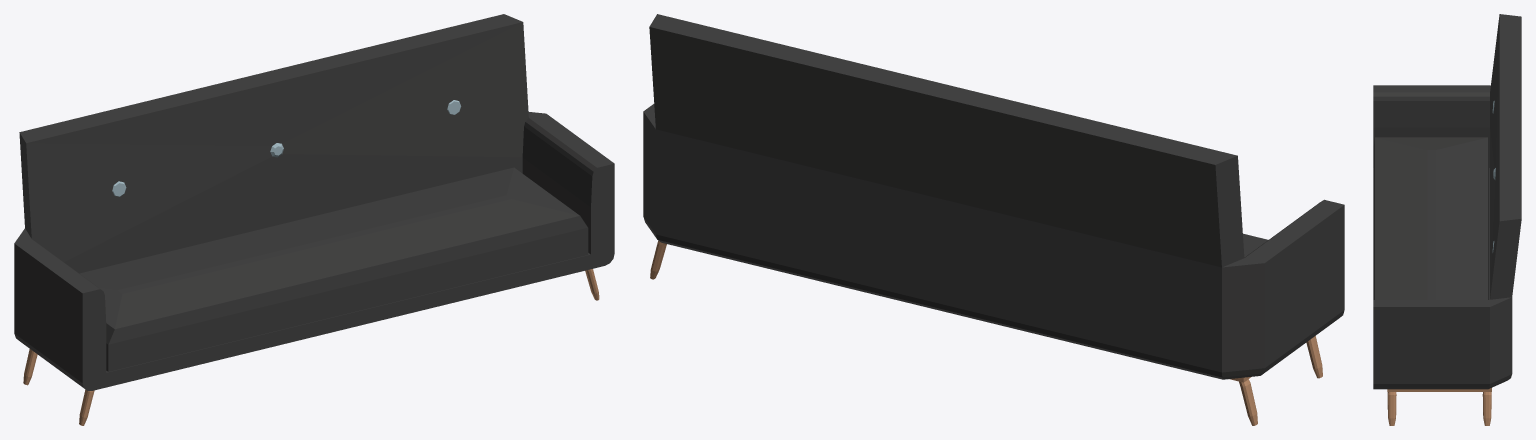
Rendered from CouchV3.fbx.
3 renders of one model, left to right at view 1: azimuth 30°, elevation 25°; view 2: azimuth 150°, elevation 25°; view 3: azimuth 270°, elevation 25°, orthographic. The views are drawn at different scales.
Visible parts, largest first — view 1: CouchV4; view 2: CouchV4; view 3: CouchV4.
Part boxes in pixels (x1=…): CouchV4: x1=14, y1=14, x2=614, y2=425; CouchV4: x1=643, y1=14, x2=1344, y2=425; CouchV4: x1=1373, y1=14, x2=1521, y2=425.
Bounding box in the file's own units: 242 × 102 × 68.49.
